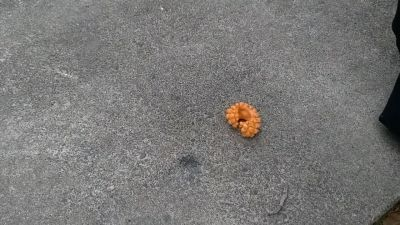eggs: (224, 102, 263, 138)
